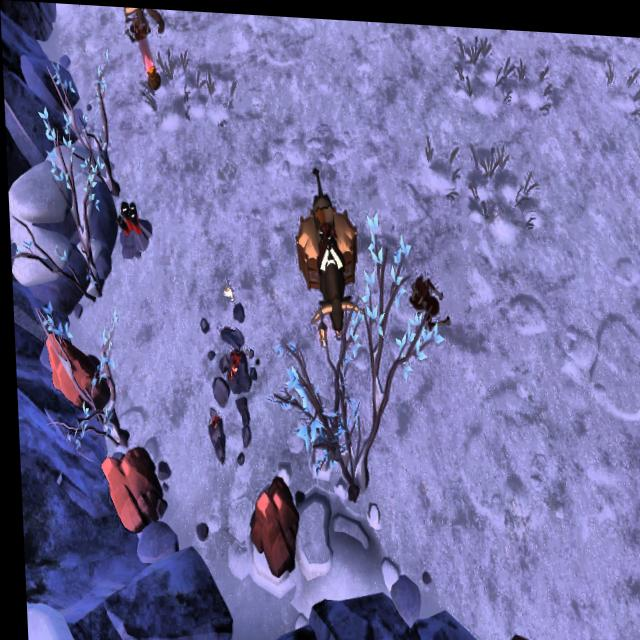ore_t5: (113, 197, 140, 234)
rock_t5: (245, 469, 303, 585), (42, 329, 109, 421), (97, 439, 157, 534), (494, 628, 560, 640)
